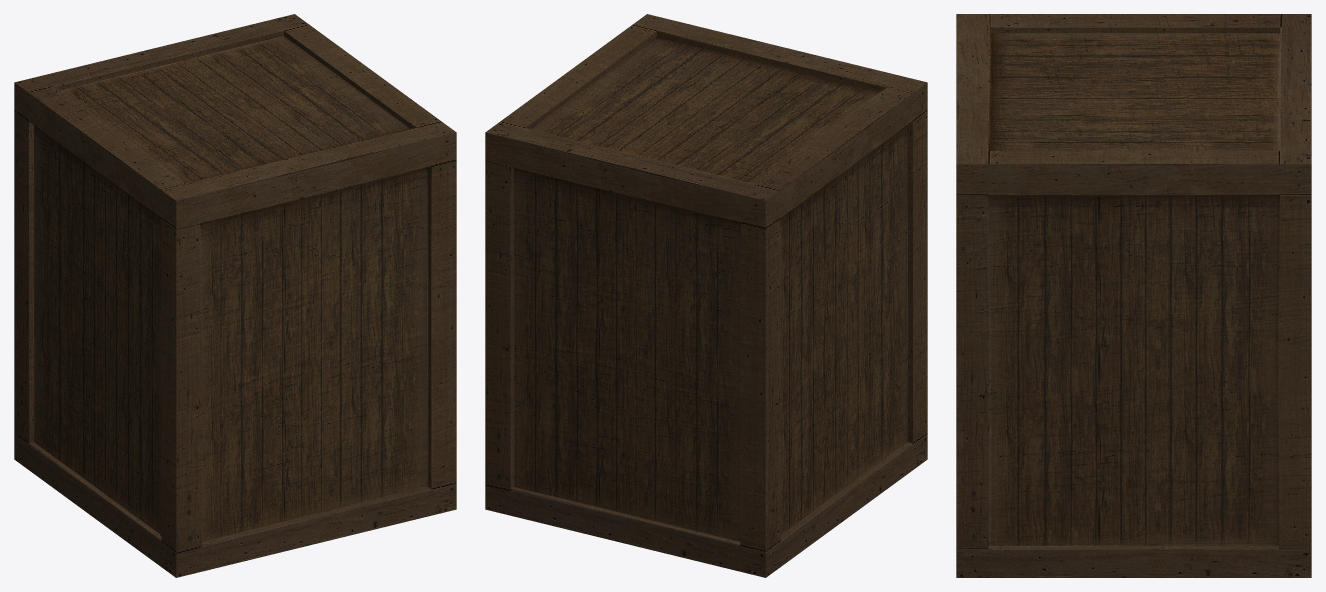
The model's file is wooden_crate_hx_2_1.glb.
3 views of the same model, side by side, from view 1: azimuth 30°, elevation 25°; view 2: azimuth 150°, elevation 25°; view 3: azimuth 270°, elevation 25° (orthographic). The views are drawn at different scales.
Parts seen in each view (by area): view 1: wooden_crate_hx_2_1; view 2: wooden_crate_hx_2_1; view 3: wooden_crate_hx_2_1.
Part boxes in pixels (x1,y1,x2,y2): wooden_crate_hx_2_1: [14, 14, 456, 577]; wooden_crate_hx_2_1: [485, 14, 927, 577]; wooden_crate_hx_2_1: [956, 14, 1311, 577].
Size of the model in its own units: 1.4 by 1.8 by 1.4.
Materials: 1 (1 with a texture image).
